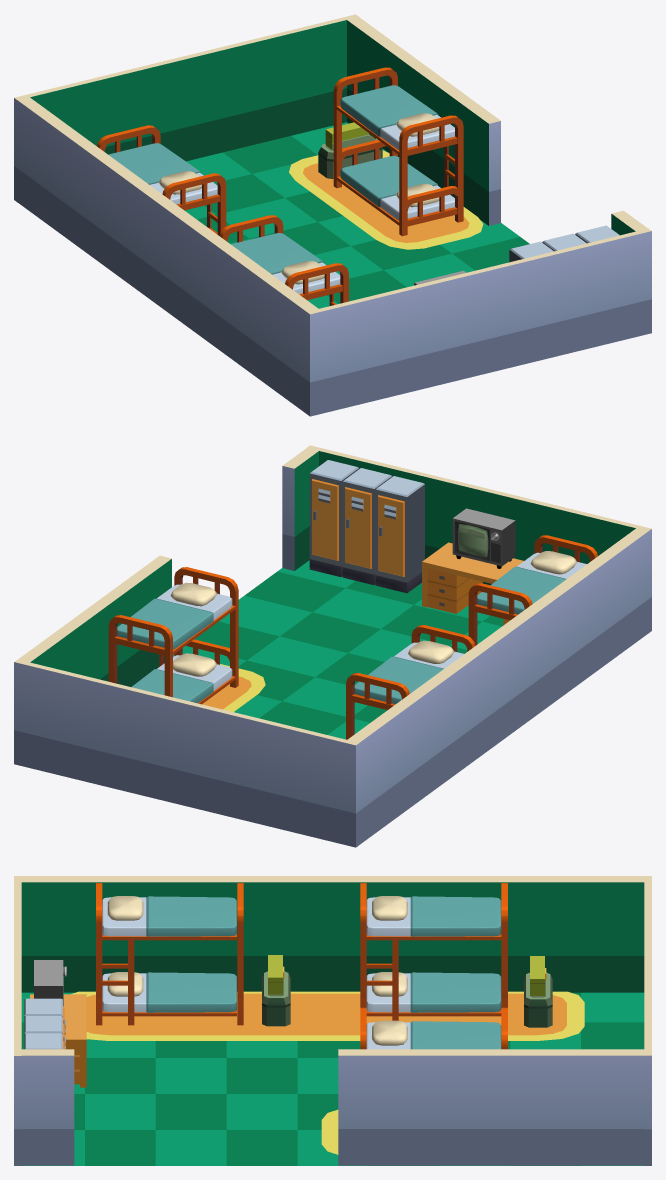
File: Barrack_Lv2_VIP_Left.fbx
3 views of the same model, one above another, from view 1: azimuth 30°, elevation 25°; view 2: azimuth 150°, elevation 25°; view 3: azimuth 270°, elevation 25° (orthographic). The views are drawn at different scales.
Visible parts, largest first — view 1: Barrack_Lv2_VIP_Left17, Barrack_Lv2_VIP_Left18, Barrack_Lv2_VIP_Left12, Barrack_Lv2_VIP_Left16, Barrack_Lv2_VIP_Left24, Barrack_Lv2_VIP_Left5, Barrack_Lv2_VIP_Left23, Barrack_Lv2_VIP_Left20, Barrack_Lv2_VIP_Left22, Barrack_Lv2_VIP_Left7, Barrack_Lv2_VIP_Left14; view 2: Barrack_Lv2_VIP_Left12, Barrack_Lv2_VIP_Left18, Barrack_Lv2_VIP_Left16, Barrack_Lv2_VIP_Left24, Barrack_Lv2_VIP_Left17, Barrack_Lv2_VIP_Left5, Barrack_Lv2_VIP_Left13, Barrack_Lv2_VIP_Left15, Barrack_Lv2_VIP_Left23, Barrack_Lv2_VIP_Left22, Barrack_Lv2_VIP_Left19, Barrack_Lv2_VIP_Left10 (+2 smaller); view 3: Barrack_Lv2_VIP_Left18, Barrack_Lv2_VIP_Left16, Barrack_Lv2_VIP_Left5, Barrack_Lv2_VIP_Left22, Barrack_Lv2_VIP_Left23, Barrack_Lv2_VIP_Left11, Barrack_Lv2_VIP_Left14, Barrack_Lv2_VIP_Left24, Barrack_Lv2_VIP_Left13, Barrack_Lv2_VIP_Left17, Barrack_Lv2_VIP_Left12, Barrack_Lv2_VIP_Left6 (+7 smaller).
Boxes of the visible parts, x1,y1,x2,y2 form: Barrack_Lv2_VIP_Left17: (307, 228, 651, 413); Barrack_Lv2_VIP_Left18: (14, 95, 322, 416); Barrack_Lv2_VIP_Left12: (14, 15, 357, 202); Barrack_Lv2_VIP_Left16: (185, 122, 529, 308); Barrack_Lv2_VIP_Left24: (333, 67, 463, 236); Barrack_Lv2_VIP_Left5: (344, 14, 500, 225); Barrack_Lv2_VIP_Left23: (97, 125, 226, 235); Barrack_Lv2_VIP_Left20: (289, 150, 483, 249); Barrack_Lv2_VIP_Left22: (219, 215, 348, 305); Barrack_Lv2_VIP_Left7: (318, 134, 382, 178); Barrack_Lv2_VIP_Left14: (611, 210, 650, 235); Barrack_Lv2_VIP_Left12: (14, 660, 359, 847); Barrack_Lv2_VIP_Left18: (344, 526, 651, 844); Barrack_Lv2_VIP_Left16: (173, 560, 503, 739); Barrack_Lv2_VIP_Left24: (108, 567, 238, 704); Barrack_Lv2_VIP_Left17: (307, 445, 639, 585); Barrack_Lv2_VIP_Left5: (15, 555, 171, 686); Barrack_Lv2_VIP_Left13: (422, 508, 523, 625); Barrack_Lv2_VIP_Left15: (375, 476, 424, 593); Barrack_Lv2_VIP_Left23: (346, 625, 475, 739); Barrack_Lv2_VIP_Left22: (468, 535, 597, 645); Barrack_Lv2_VIP_Left19: (309, 460, 359, 576); Barrack_Lv2_VIP_Left10: (342, 468, 392, 585); Barrack_Lv2_VIP_Left18: (14, 876, 651, 992); Barrack_Lv2_VIP_Left16: (21, 992, 644, 1165); Barrack_Lv2_VIP_Left5: (338, 1049, 651, 1165); Barrack_Lv2_VIP_Left22: (96, 883, 243, 1025); Barrack_Lv2_VIP_Left23: (360, 883, 507, 1020); Barrack_Lv2_VIP_Left11: (71, 991, 584, 1040); Barrack_Lv2_VIP_Left14: (14, 1049, 74, 1165); Barrack_Lv2_VIP_Left24: (360, 1007, 507, 1049); Barrack_Lv2_VIP_Left13: (30, 960, 86, 1087); Barrack_Lv2_VIP_Left17: (14, 882, 21, 1165); Barrack_Lv2_VIP_Left12: (644, 882, 651, 1165); Barrack_Lv2_VIP_Left6: (262, 971, 290, 1026).
Size of the model in its own units: 700 by 211 by 1050.
